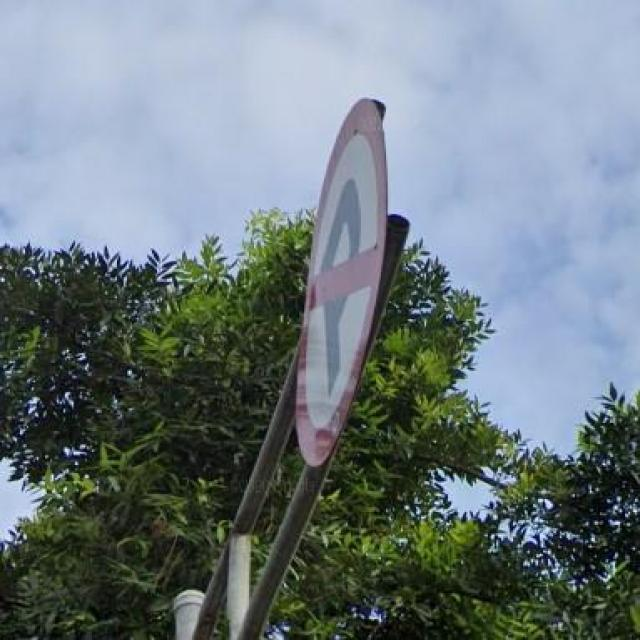traffic sign: (299, 96, 389, 474)
